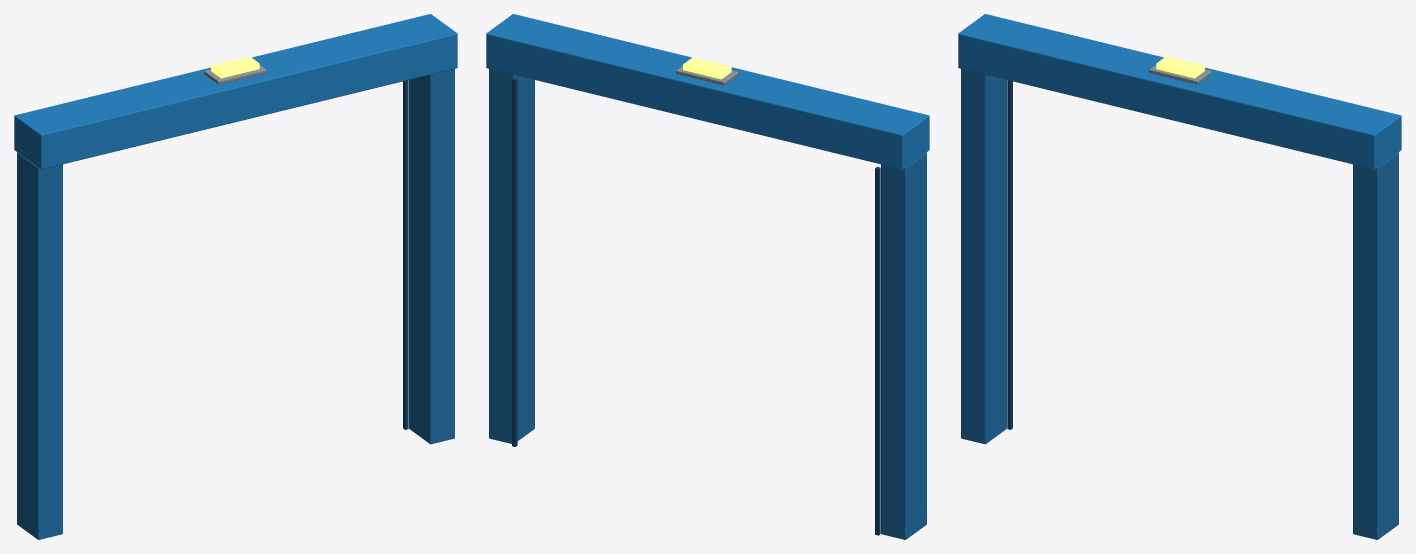
File: SM_VR_Gate.fbx
3 renders of one model, left to right at view 1: azimuth 30°, elevation 25°; view 2: azimuth 150°, elevation 25°; view 3: azimuth 330°, elevation 25°, orthographic.
Visible parts, largest first — view 1: SM_VR_Gate; view 2: SM_VR_Gate; view 3: SM_VR_Gate.
Part boxes in pixels (<box>): SM_VR_Gate: <box>14,14,457,539</box>; SM_VR_Gate: <box>486,14,929,539</box>; SM_VR_Gate: <box>958,14,1401,539</box>.
Size of the model in its own units: 300 by 34 by 287.
